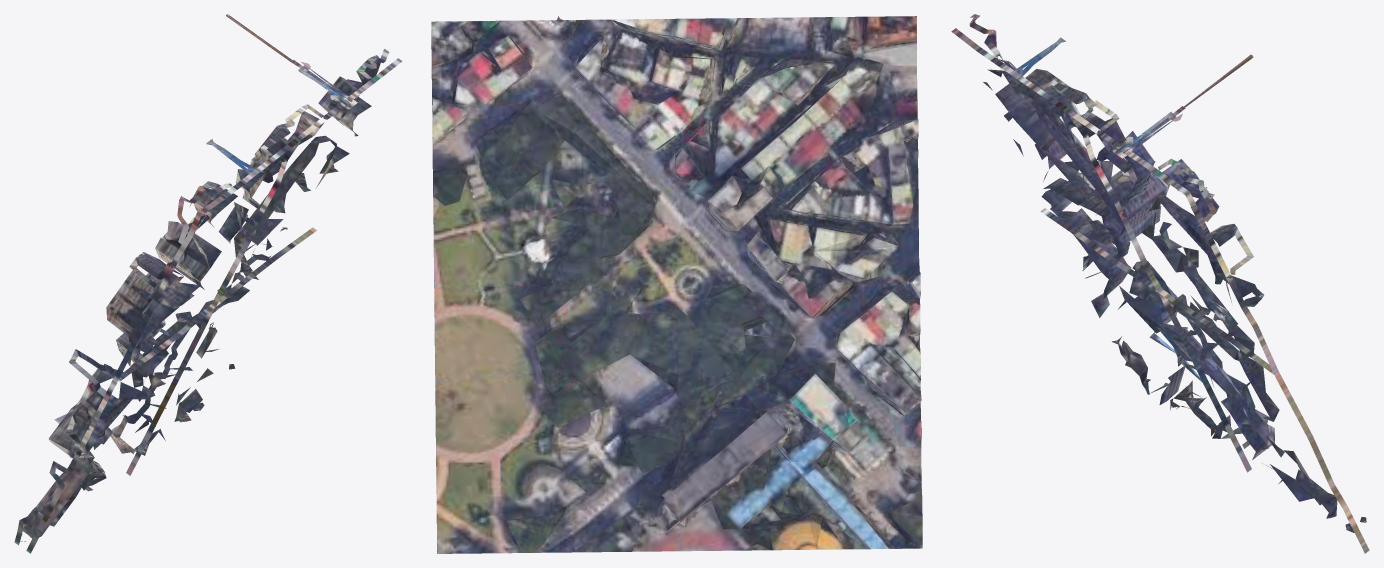
3 renders of one model, left to right at view 1: azimuth 30°, elevation 25°; view 2: azimuth 150°, elevation 25°; view 3: azimuth 270°, elevation 25°, orthographic. The views are drawn at different scales.
Size of the model in its own units: 311 by 319 by 258.
Materials: 2 (2 with a texture image).
